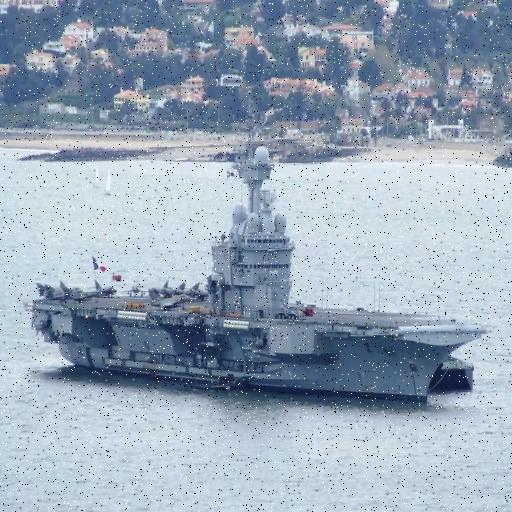Portanaves: (21, 129, 496, 410)
